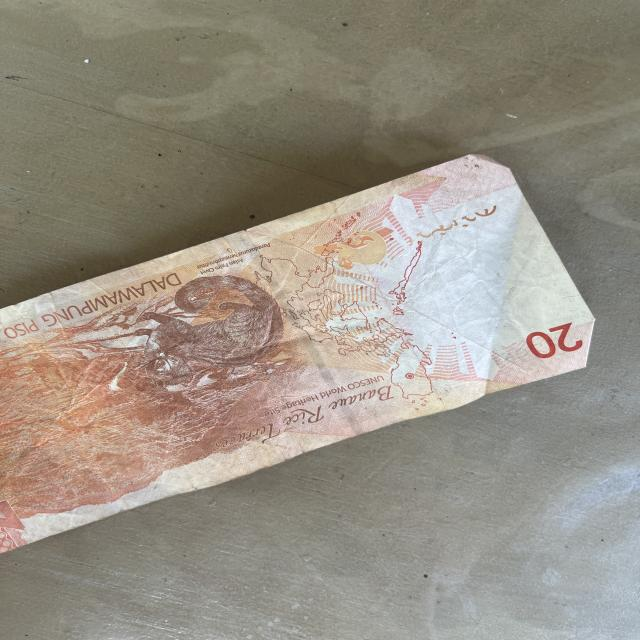20_civet: (120, 276, 288, 387)
20_civet_watermark: (315, 228, 394, 266)
